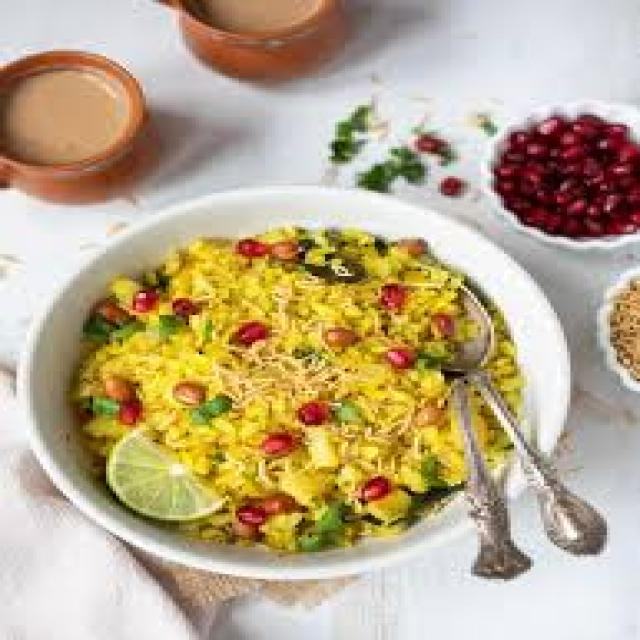POHA: (75, 231, 456, 543)
